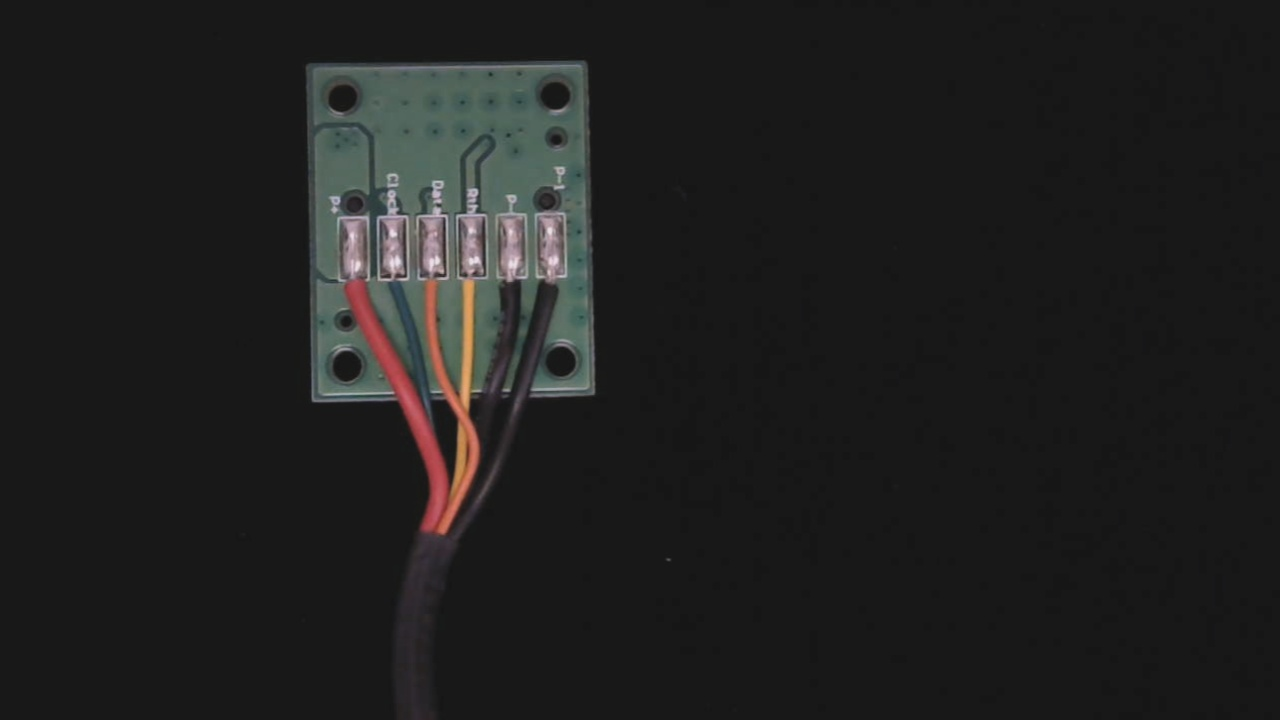Black: (503, 258, 541, 333)
Black1: (547, 258, 582, 326)
Green: (385, 256, 419, 319)
Orange: (424, 256, 458, 330)
Red: (343, 255, 380, 323)
Yellow: (464, 257, 501, 333)
